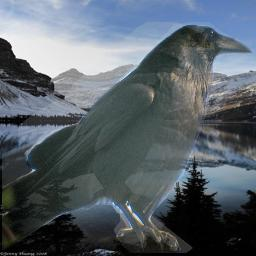Crow: (2, 22, 254, 253)
